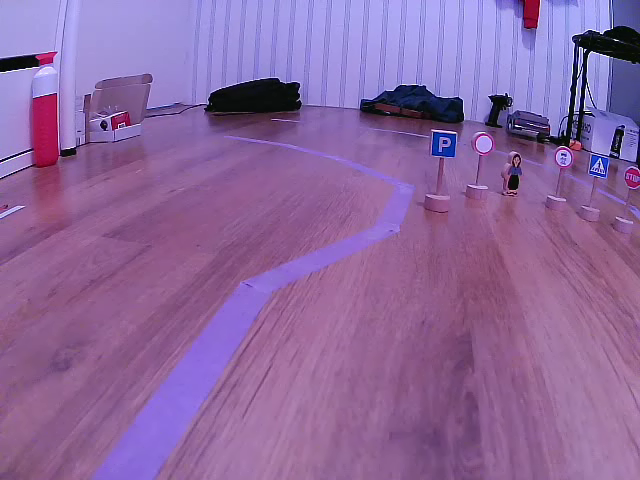fietspad: (553, 145, 572, 169)
mens: (501, 150, 525, 198)
parkeerbord: (428, 128, 459, 161)
stopbord: (623, 165, 640, 189)
wegdicht: (472, 131, 494, 156)
zebrapad: (589, 153, 606, 179)
